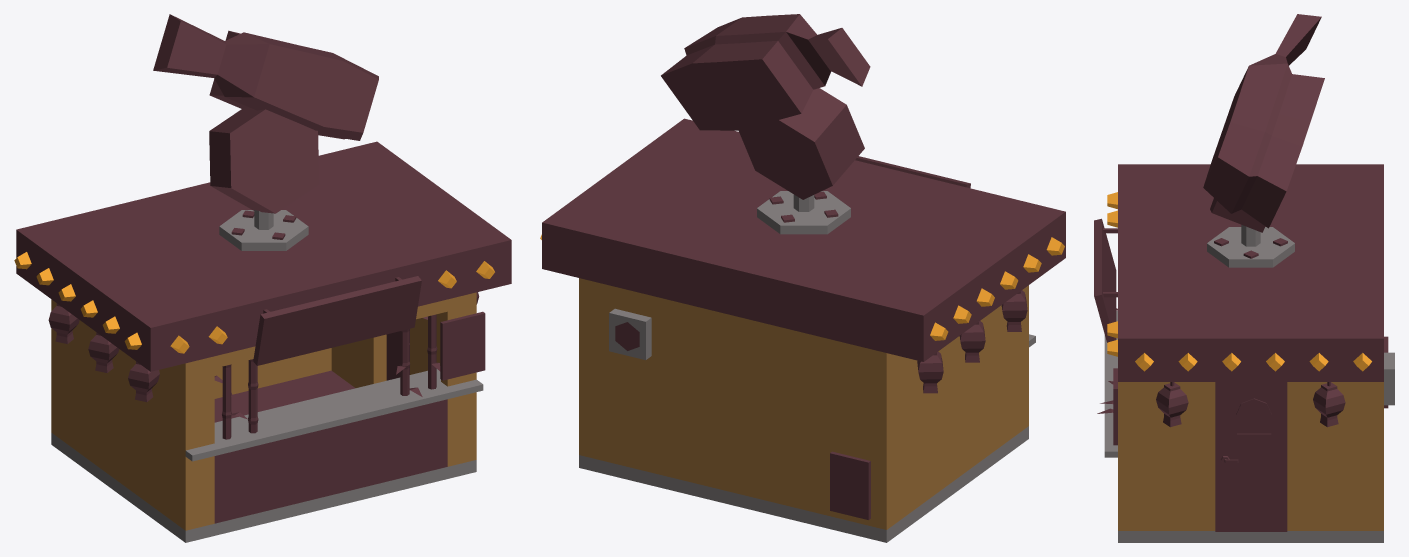
File: sushi-stall.fbx
3 renders of one model, left to right at view 1: azimuth 30°, elevation 25°; view 2: azimuth 150°, elevation 25°; view 3: azimuth 270°, elevation 25°, orthographic. The views are drawn at different scales.
Visible parts, largest first — view 1: sushi-stall; view 2: sushi-stall; view 3: sushi-stall.
Boxes of the visible parts, x1=… form: sushi-stall: x1=14, y1=14, x2=511, y2=542; sushi-stall: x1=540, y1=14, x2=1065, y2=542; sushi-stall: x1=1094, y1=14, x2=1394, y2=542.
Size of the model in its own units: 4.9 by 5.35 by 3.39.
